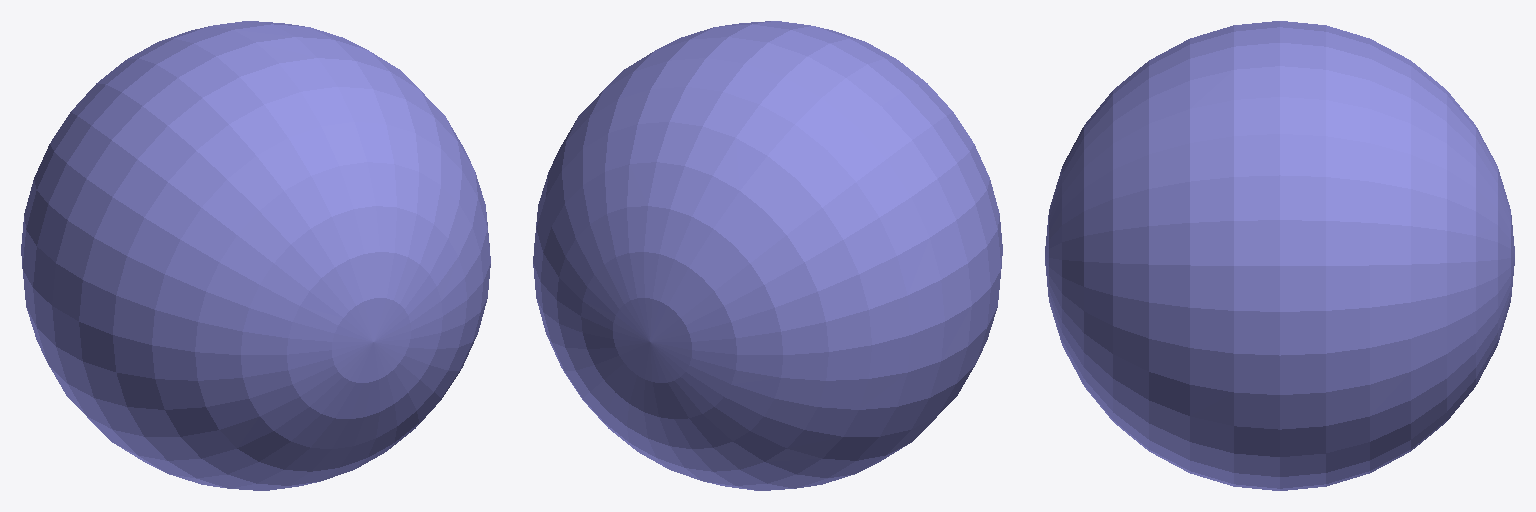
File: unit_sphere.obj
3 views of the same model, side by side, from view 1: azimuth 30°, elevation 25°; view 2: azimuth 150°, elevation 25°; view 3: azimuth 270°, elevation 25° (orthographic).
Visible parts, largest first — view 1: Sphere001; view 2: Sphere001; view 3: Sphere001.
Boxes of the visible parts, <box> form: Sphere001: <box>21,21,490,490</box>; Sphere001: <box>533,21,1002,490</box>; Sphere001: <box>1045,21,1514,490</box>.
Size of the model in its own units: 2 by 2 by 2.